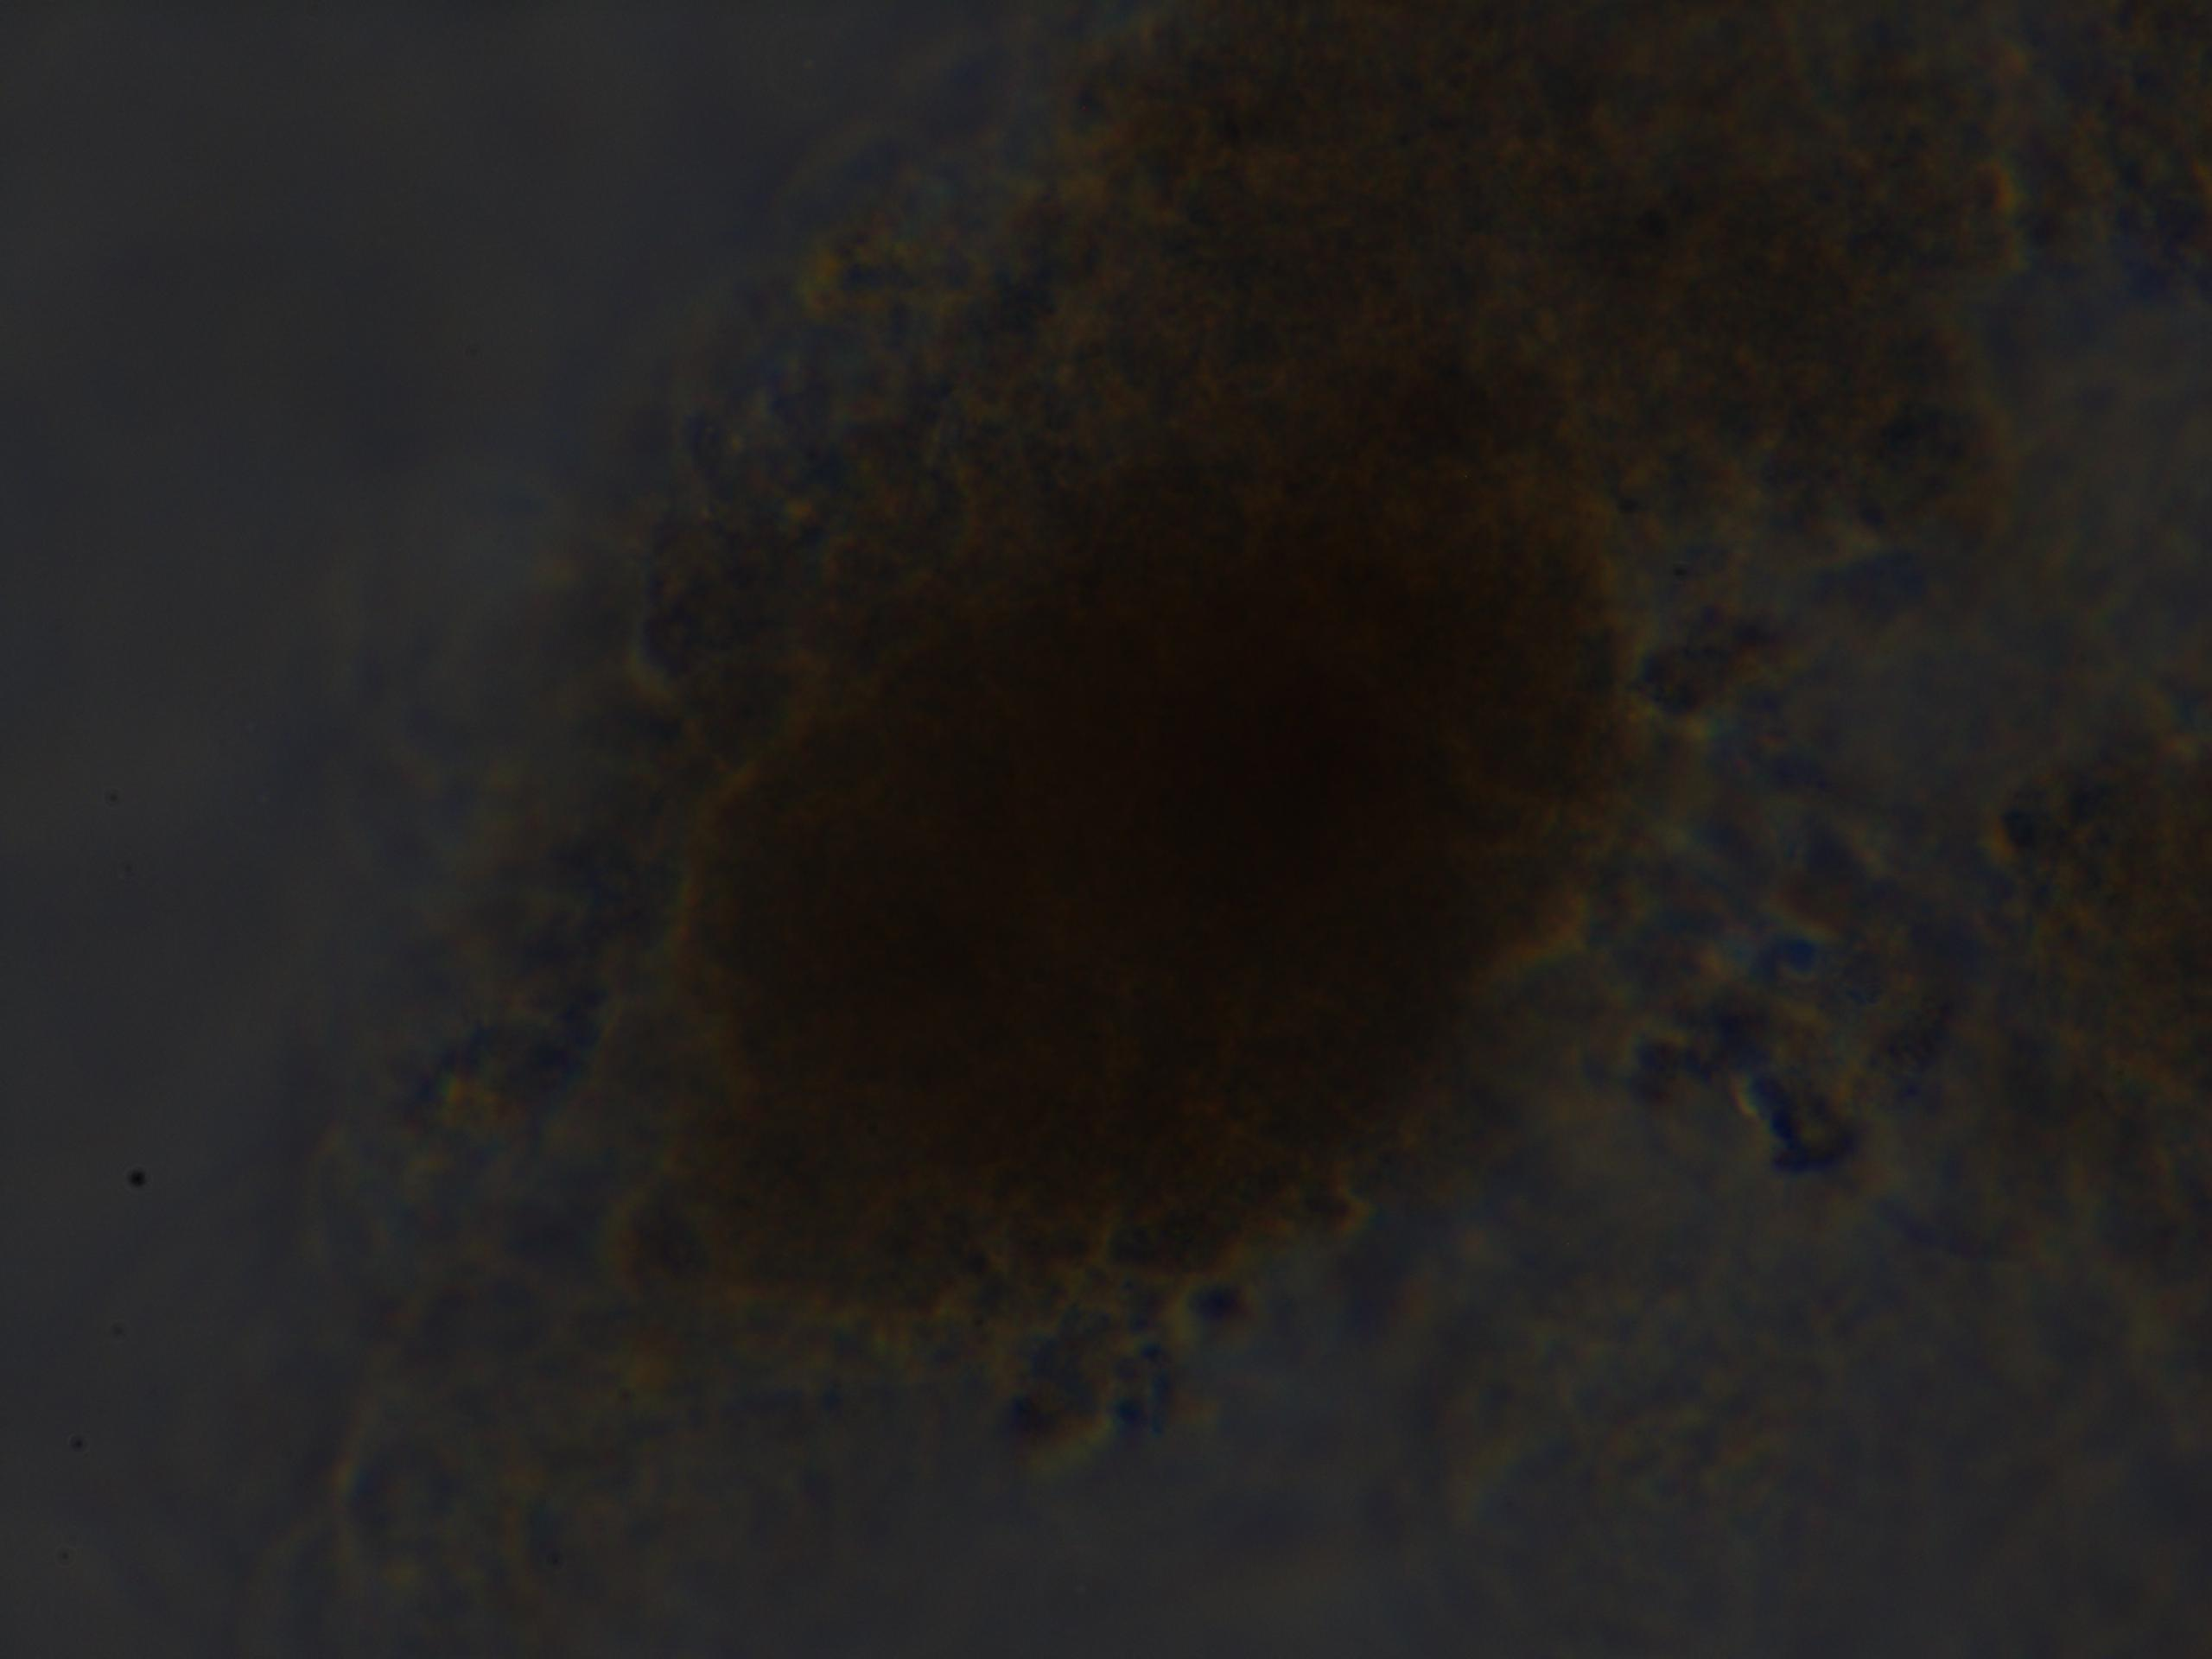spherical_floc: (651, 281, 1653, 1385)
